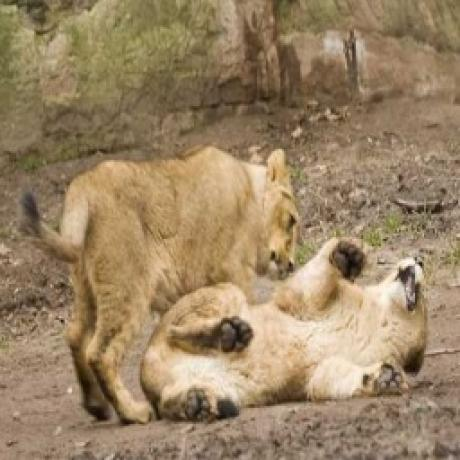Lion: (15, 146, 302, 430), (135, 235, 433, 424)
